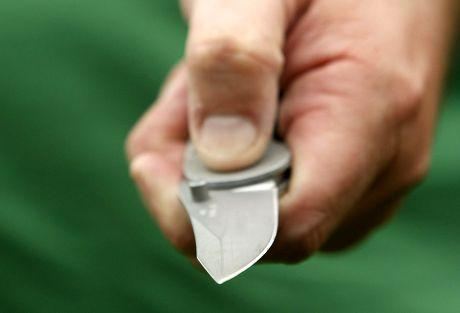Knife: (123, 1, 460, 276), (126, 0, 460, 276), (177, 130, 294, 287)
